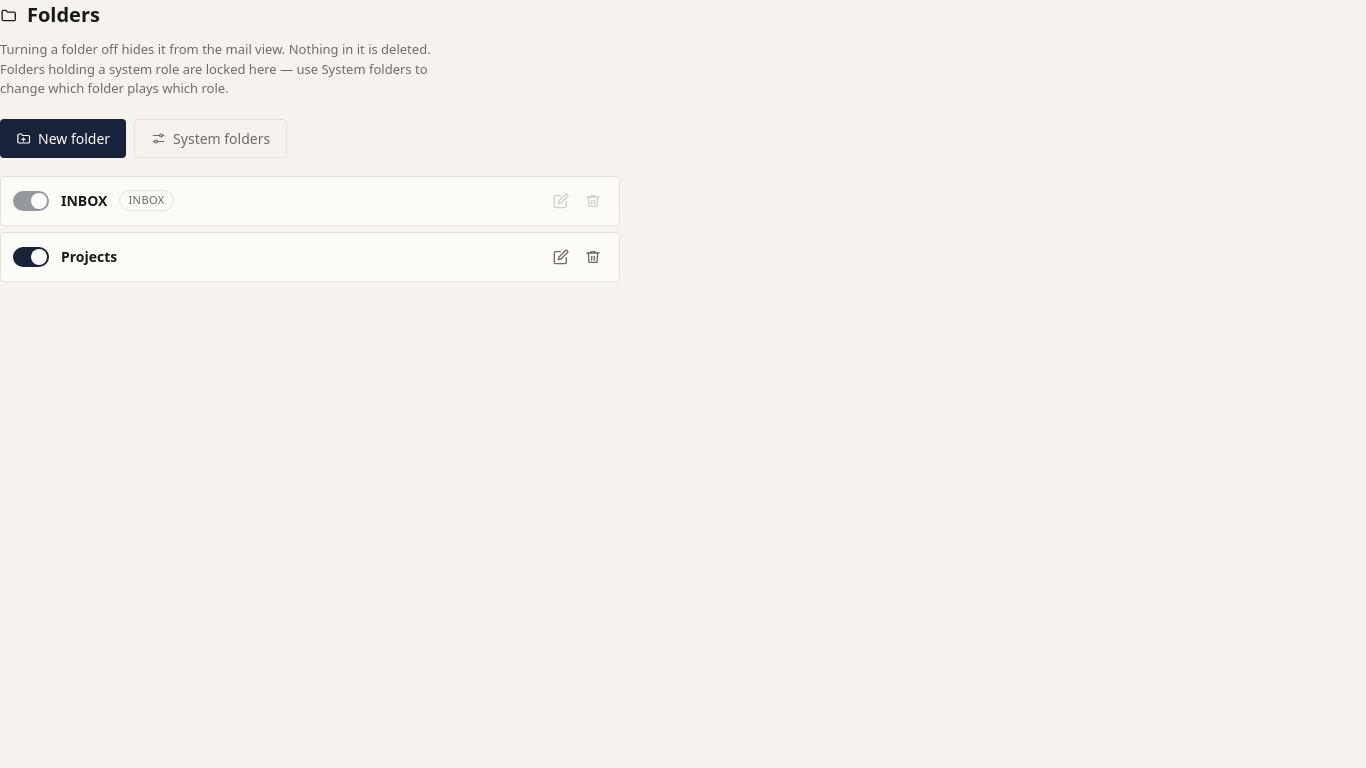
Scenario: FoldersPage › hands focus to the folder list when the refetch lands after the confirm closed
Expected: the checkbox named "Show Projects" is shown, [13,246,49,266]
Step 1. Click the button named "Delete Projects" → click(593, 256), box [579,242,607,270]
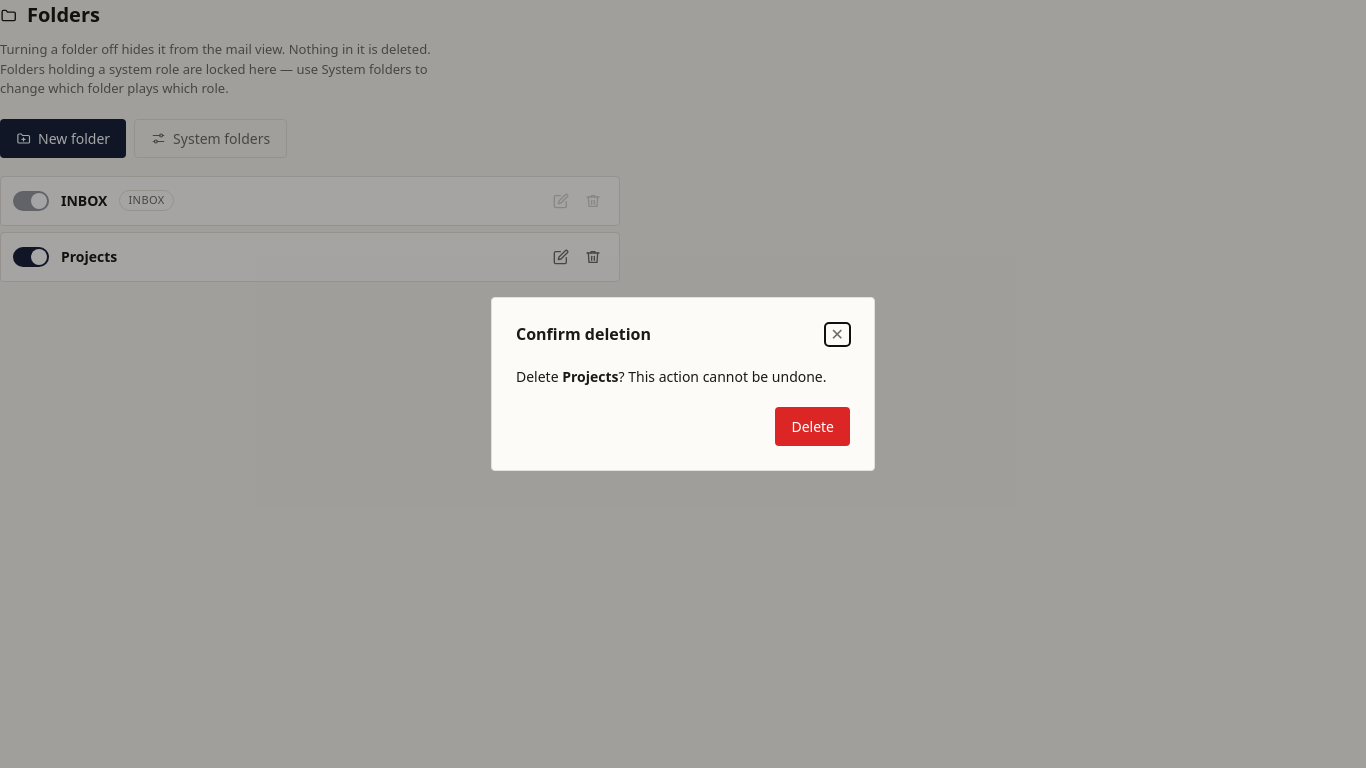
Step 2. Click the button "Delete" → click(813, 426), box [775,407,850,446]
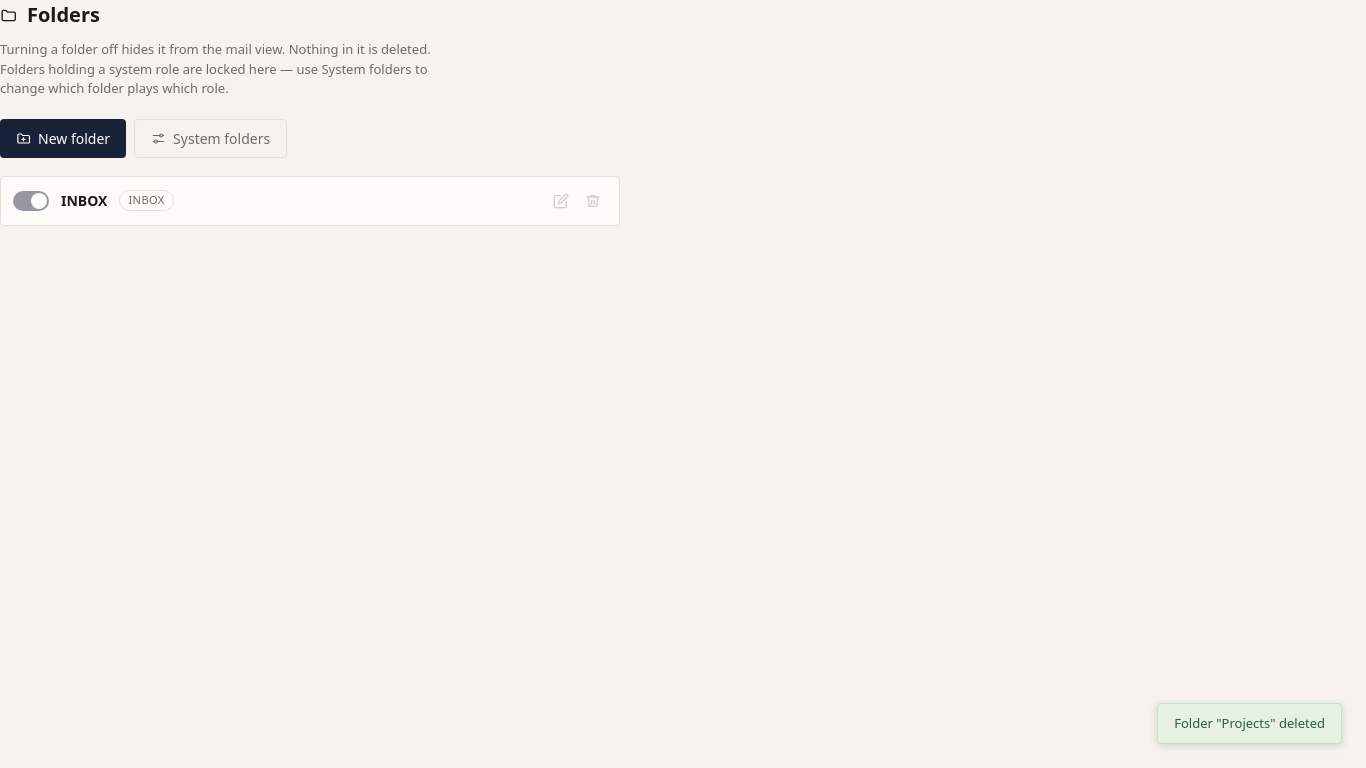
Expected: the text "Confirm deletion" is gone
